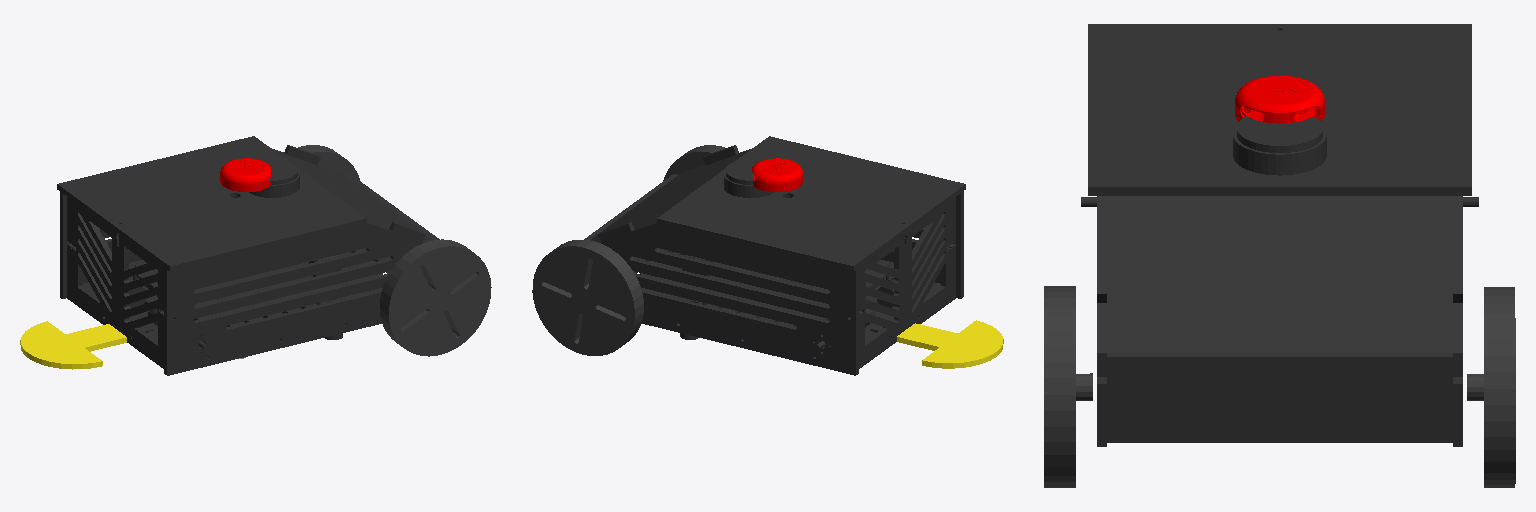
robot.urdf — metal_detector_bot_v2:
<?xml version="1.0" encoding="utf-8"?>
<!-- This URDF was automatically created by SolidWorks to URDF Exporter! Originally created by [author] ([email redacted]) 
     Commit Version: 1.6.0-1-g15f4949  Build Version: 1.6.7594.29634
     For more information, please see http://wiki.ros.org/sw_urdf_exporter -->
<robot name="metal_detector_bot_v2" xmlns:xacro="http://www.ros.org/wiki/xacro">

  <gazebo reference="base_link">
    <material>Gazebo/Black</material>
  </gazebo>
  <gazebo reference="Back_left_wheel_link">
    <material>Gazebo/Grey</material>
  </gazebo>
  <gazebo reference="Back_right_wheel_link">
    <material>Gazebo/Grey</material>
  </gazebo>
  <gazebo reference="Ball_caster_left_link">
    <material>Gazebo/Grey</material>
  </gazebo>
  <gazebo reference="Ball_caster_right_link">
    <material>Gazebo/Grey</material>
  </gazebo>
  <gazebo reference="Lidar_link">
    <material>Gazebo/Red</material>
  </gazebo>
  <gazebo reference="camera_link">
    <material>Gazebo/Blue</material>
  </gazebo>
  <gazebo reference="Metal_detector_arm_link">
    <material>Gazebo/Yellow</material>
  </gazebo>

  <link
    name="base_link">
    <inertial>
      <origin
        xyz="0.0352433046960833 0 0.06"
        rpy="1.5707 0 0" />
      <mass
        value="4.90119967390804" />
      <inertia
        ixx="0.0256279999650394"
        ixy="-0.0012824678178163"
        ixz="-7.30503953498976E-07"
        iyy="0.0653244834339538"
        iyz="-1.51918510606531E-08"
        izz="0.0470062321795552" />
    </inertial>
    <visual>
      <origin
        xyz="0 0 0"
        rpy="0 0 0" />
      <geometry>
        <mesh
          filename="package://metal_detector_bot/meshes/base_link.STL" />
      </geometry>
      <material
        name="">
        <color
          rgba="0.250980392156863 0.250980392156863 0.250980392156863 1" />
      </material>
    </visual>
    <collision>
      <origin
        xyz="0 0 0"
        rpy="0 0 0" />
      <geometry>
        <mesh
          filename="package://metal_detector_bot/meshes/base_link.STL" />
      </geometry>
    </collision>
  </link>
  <link
    name="Back_left_wheel_link">
    <inertial>
      <origin
        xyz="6.24500451351651E-16 -3.05311331771918E-16 0.0262587770530892"
        rpy="0 0 0" />
      <mass
        value="0.49830589190105" />
      <inertia
        ixx="0.000864068748819037"
        ixy="1.0842021724855E-19"
        ixz="1.91990872890094E-17"
        iyy="0.000864068748819036"
        iyz="-8.99787386295198E-18"
        izz="0.00167126892614855" />
    </inertial>
    <visual>
      <origin
        xyz="0 0 0"
        rpy="0 0 0" />
      <geometry>
        <mesh
          filename="package://metal_detector_bot/meshes/Back_left_wheel_link.STL" />
      </geometry>
      <material
        name="">
        <color
          rgba="0.298039215686275 0.298039215686275 0.298039215686275 1" />
      </material>
    </visual>
    <collision>
      <origin
        xyz="0 0 0"
        rpy="0 0 0" />
      <geometry>
        <mesh
          filename="package://metal_detector_bot/meshes/Back_left_wheel_link.STL" />
      </geometry>
    </collision>
  </link>
  <joint
    name="Back_left_wheel_joint"
    type="continuous">
    <origin
      xyz="0.1766 -0.15065 0.019"
      rpy="1.5708 1.1251 0" />
    <parent
      link="base_link" />
    <child
      link="Back_left_wheel_link" />
    <axis
      xyz="0 0 1" />
  </joint>
  <link
    name="Back_right_wheel_link">
    <inertial>
      <origin
        xyz="6.80011602582908E-16 5.55111512312578E-17 -0.0262587770530892"
        rpy="0 0 0" />
      <mass
        value="0.49830589190105" />
      <inertia
        ixx="0.000864068748819037"
        ixy="-5.7963138419527E-32"
        ixz="2.08834214869925E-17"
        iyy="0.000864068748819036"
        iyz="-8.64947253348298E-19"
        izz="0.00167126892614855" />
    </inertial>
    <visual>
      <origin
        xyz="0 0 0"
        rpy="3.142 0 0" />
      <geometry>
        <mesh
          filename="package://metal_detector_bot/meshes/Back_right_wheel_link.STL" />
      </geometry>
      <material
        name="">
        <color
          rgba="0.298039215686275 0.298039215686275 0.298039215686275 1" />
      </material>
    </visual>
    <collision>
      <origin
        xyz="0 0 0"
        rpy="0 0 0" />
      <geometry>
        <mesh
          filename="package://metal_detector_bot/meshes/Back_right_wheel_link.STL" />
      </geometry>
    </collision>
  </link>
  <joint
    name="Back_right_wheel_joint"
    type="continuous">
    <origin
      xyz="0.1766 0.15065 0.019"
      rpy="-1.5708 -1.3963 3.1416" />
    <parent
      link="base_link" />
    <child
      link="Back_right_wheel_link" />
    <axis
      xyz="0 0 1" />
  </joint>
  <link
    name="Ball_caster_left_link">
    <inertial>
      <origin
        xyz="6.93889390390723E-17 7.09154956979319E-15 0.0125000000000013"
        rpy="0 0 0" />
      <mass
        value="0.00818123086872342" />
      <inertia
        ixx="5.11326929295214E-07"
        ixy="0"
        ixz="-4.77927573339736E-55"
        iyy="5.11326929295214E-07"
        iyz="-1.06121239205001E-70"
        izz="5.11326929295214E-07" />
    </inertial>
    <visual>
      <origin
        xyz="0 0 0"
        rpy="0 0 0" />
      <geometry>
        <mesh
          filename="package://metal_detector_bot/meshes/Ball_caster_left_link.STL" />
      </geometry>
      <material
        name="">
        <color
          rgba="0.792156862745098 0.819607843137255 0.933333333333333 1" />
      </material>
    </visual>
    <collision>
      <origin
        xyz="0 0 0"
        rpy="0 0 0" />
      <geometry>
        <mesh
          filename="package://metal_detector_bot/meshes/Ball_caster_left_link.STL" />
      </geometry>
    </collision>
  </link>
  <joint
    name="Ball_caster_left_joint"
    type="continuous">
    <origin
      xyz="-0.06543 -0.07735 -0.04811"
      rpy="1.5708 0 0" />
    <parent
      link="base_link" />
    <child
      link="Ball_caster_left_link" />
    <axis
      xyz="0 0 1" />
  </joint>
  <link
    name="Ball_caster_right_link">
    <inertial>
      <origin
        xyz="1.38777878078145E-17 0 -0.0125"
        rpy="0 0 0" />
      <mass
        value="0.00818123086872342" />
      <inertia
        ixx="5.11326929295214E-07"
        ixy="0"
        ixz="-4.77927573339736E-55"
        iyy="5.11326929295214E-07"
        iyz="-1.06121239205001E-70"
        izz="5.11326929295214E-07" />
    </inertial>
    <visual>
      <origin
        xyz="0 0 0"
        rpy="0 0 0" />
      <geometry>
        <mesh
          filename="package://metal_detector_bot/meshes/Ball_caster_right_link.STL" />
      </geometry>
      <material
        name="">
        <color
          rgba="0.792156862745098 0.819607843137255 0.933333333333333 1" />
      </material>
    </visual>
    <collision>
      <origin
        xyz="0 0 0"
        rpy="0 0 0" />
      <geometry>
        <mesh
          filename="package://metal_detector_bot/meshes/Ball_caster_right_link.STL" />
      </geometry>
    </collision>
  </link>
  <joint
    name="Ball_caster_right_joint"
    type="continuous">
    <origin
      xyz="-0.06543 0.07735 -0.04811"
      rpy="1.5708 0 0" />
    <parent
      link="base_link" />
    <child
      link="Ball_caster_right_link" />
    <axis
      xyz="0 0 1" />
  </joint>


   <link
    name="Lidar_link">
    <inertial>
      <origin
        xyz="-6.79587614786925E-05 0.0127572143525103 -0.00287746273821438"
        rpy="0 0 0" />
      <mass
        value="0.0553297294575326" />
      <inertia
        ixx="1.77198970100708E-05"
        ixy="-5.03899483380146E-09"
        ixz="3.90650477574448E-08"
        iyy="3.29681799815038E-05"
        iyz="-2.52552357078286E-07"
        izz="1.80448127856945E-05" />
    </inertial>
    <visual>
      <origin
        xyz="0 0 0"
        rpy="1.5707 0 -1.5707" />
      <geometry>
        <mesh
          filename="package://metal_detector_bot/meshes/Lidar_link.STL" />
      </geometry>
      <material
        name="">
        <color
          rgba="1 0 0 1" />
      </material>
    </visual>
    <collision>
      <origin
        xyz="0 0 0"
        rpy="0 0 0" />
      <geometry>
        <mesh
          filename="package://metal_detector_bot/meshes/Lidar_link.STL" />
      </geometry>
    </collision>
  </link>

  <joint
    name="Lidar_joint"
    type="fixed">
    <origin
      xyz="-0.02 0 0.17"
      rpy="0 0 3.1415" />
      <!--<origin
      xyz="0.28528 -0.51932 0.297"
      rpy="0 0 0" />-->

     
    <parent
      link="base_link" />
    <child
      link="Lidar_link" />
    <axis
      xyz="0 1 0" />
    <!-- <limit
      lower="0"
      upper="0"
      effort="0"
      velocity="0" /> -->
  </joint>


   <!--The LIDAR plugin has been inserted by [author] from the website-->
  <!--https://classic.gazebosim.org/tutorials?tut=ros_gzplugins-->
  <!--Adding LIDAR Sensor to the Robot-->
  <!-- hokuyo -->
  <gazebo reference="Lidar_link">
    <sensor type="ray" name="head_hokuyo_sensor">
      <pose>0 0 0 0 0 0</pose>
      <visualize>true</visualize>
      <update_rate>40</update_rate>
      <ray>
        <scan>
          <horizontal>
            <samples>720</samples>
            <resolution>1</resolution>
            <min_angle>-1.570796</min_angle>
            <max_angle>1.570796</max_angle>
          </horizontal>
        </scan>
        <range>
          <min>0.10</min>
          <max>30.0</max>
          <resolution>0.01</resolution>
        </range>
        <noise>
          <type>gaussian</type>
          <!-- Noise parameters based on published spec for Hokuyo laser
               achieving "+-30mm" accuracy at range < 10m.  A mean of 0.0m and
               stddev of 0.01m will put 99.7% of samples within 0.03m of the true
               reading. -->
          <mean>0.0</mean>
          <stddev>0.001</stddev>
        </noise>
      </ray>
      <plugin name="gazebo_ros_head_hokuyo_controller" filename="libgazebo_ros_laser.so">
        <topicName>/scan</topicName>
        <frameName>Lidar_link</frameName>
      </plugin>
    </sensor>
  </gazebo>



  <link
    name="Metal_detector_arm_link">
    <inertial>
      <origin
        xyz="-0.140649491426954 -0.004 -8.44376651931711E-16"
        rpy="0 0 0" />
      <mass
        value="0.180271479688744" />
      <inertia
        ixx="0.000140221478425327"
        ixy="2.38536674196087E-21"
        ixz="4.79632406382748E-20"
        iyy="0.00124414564889824"
        iyz="1.12771898474177E-21"
        izz="0.00110584706625626" />
    </inertial>
    <visual>
      <origin
        xyz="0 0 0"
        rpy="0 0 0" />
      <geometry>
        <mesh
          filename="package://metal_detector_bot/meshes/Metal_detector_arm_link.STL" />
      </geometry>
      <material
        name="">
        <color
          rgba="1 0.937254901960784 0.137254901960784 1" />
      </material>
    </visual>
    <collision>
      <origin
        xyz="0 0 0"
        rpy="0 0 0" />
      <geometry>
        <mesh
          filename="package://metal_detector_bot/meshes/Metal_detector_arm_link.STL" />
      </geometry>
    </collision>
  </link>
  <joint
    name="Metal_detector_plate_joint"
    type="continuous">
    <origin
      xyz="-0.1143 0 -0.008"
      rpy="1.5708 0 0.0071867" />
    <parent
      link="base_link" />
    <child
      link="Metal_detector_arm_link" />
    <axis
      xyz="0 1 0" />
  </joint>
  <!--Differential drive plugin inserted by [author]-->
  <!-- This is necessary to move the robot using cmd_vel -->
  <!-- The plugin is taken from the website -->
  <!-- https://kiranpalla.com/autonomous-navigation-ros-differential-drive-robot-simulation/simple-navigation-with-differential-drive-plugin/ -->

  <gazebo>
    <plugin name="differential_drive_controller" filename="libgazebo_ros_diff_drive.so">
      <alwaysOn>true</alwaysOn>
      <legacyMode>false</legacyMode>
      <updateRate>40</updateRate>
      <leftJoint>Back_left_wheel_joint</leftJoint>
      <rightJoint>Back_right_wheel_joint</rightJoint>
      <wheelSeparation>0.2794</wheelSeparation>
      <wheelDiameter>0.1524</wheelDiameter>
      <torque>20</torque>
      <wheelTorque>5</wheelTorque>
      <wheelAcceleration>1.0</wheelAcceleration>
      <commandTopic>/cmd_vel</commandTopic>
      <odometryTopic>/odom</odometryTopic>
      <odometryFrame>odom</odometryFrame>
      <robotBaseFrame>base_link</robotBaseFrame>
      <!-- <publishWheelTF>true</publishWheelTF> -->
      <publishOdomTF>true</publishOdomTF>
      <publishWheelJointState>true</publishWheelJointState>
 
    </plugin>

  <plugin name="gazebo_ros_control" filename="libgazebo_ros_contol.so">
        <!-- <robotNamespace>/</robotNamespace> -->
  </plugin>

  <plugin name="joint_state_publisher" filename="libgazebo_ros_joint_state_publisher.so">
      <!-- <jointName> Ball_caster_left_joint , Ball_caster_right_joint, Lidar_joint, Metal_detector_plate_joint
      </jointName> -->
     <jointName> Ball_caster_left_joint , Ball_caster_right_joint, Metal_detector_plate_joint
      </jointName>


  </plugin>
</gazebo>
</robot>

--- What the picture shows (computed from the rendered views, not written in the file) ---
The picture shows the robot from 3 angles, left to right: view 1: azimuth 30°, elevation 25°; view 2: azimuth 150°, elevation 25°; view 3: azimuth 270°, elevation 25°; orthographic projection.
Robot: metal_detector_bot_v2 — 7 links, 6 joints (5 continuous, 1 fixed); root link base_link; default pose: every joint at zero.
Visible links, largest first — view 1: base_link, Back_left_wheel_link, Metal_detector_arm_link, Lidar_link, Back_right_wheel_link; view 2: base_link, Back_right_wheel_link, Metal_detector_arm_link, Lidar_link, Back_left_wheel_link; view 3: base_link, Back_left_wheel_link, Back_right_wheel_link, Lidar_link.
Link boxes in pixels (box(x1,y1,x2,y2)): base_link: box(57, 136, 439, 375); Back_left_wheel_link: box(380, 239, 491, 356); Metal_detector_arm_link: box(20, 321, 126, 369); Lidar_link: box(220, 158, 271, 191); Back_right_wheel_link: box(298, 145, 359, 180); base_link: box(584, 136, 965, 375); Back_right_wheel_link: box(532, 240, 643, 355); Metal_detector_arm_link: box(897, 320, 1003, 368); Lidar_link: box(752, 158, 802, 191); Back_left_wheel_link: box(663, 145, 724, 180); base_link: box(1081, 24, 1478, 446); Back_left_wheel_link: box(1044, 286, 1092, 487); Back_right_wheel_link: box(1467, 287, 1515, 487); Lidar_link: box(1235, 76, 1324, 123).
Size in the robot's own frame: 0.6249 by 0.3796 by 0.2537 metres.
7 mesh visuals loaded from 7 distinct referenced files (7 binary STL).
